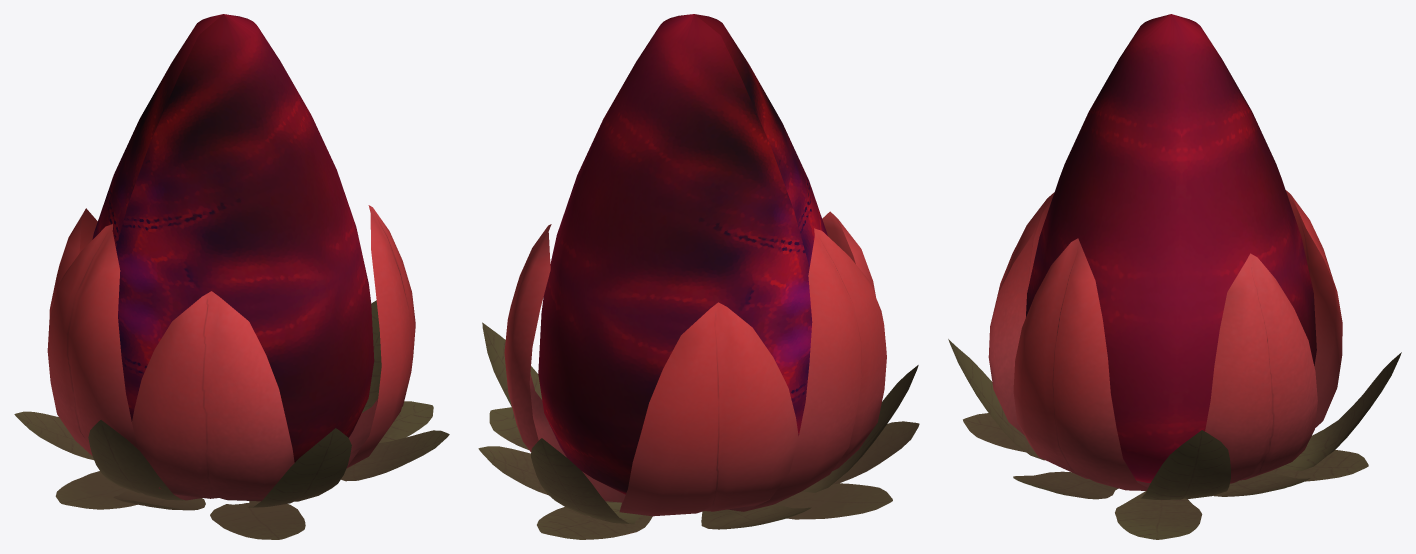
Rendered from egg.fbx.
3 renders of one model, left to right at view 1: azimuth 30°, elevation 25°; view 2: azimuth 150°, elevation 25°; view 3: azimuth 270°, elevation 25°, orthographic. The views are drawn at different scales.
Parts seen in each view (by area): view 1: PlantEgg4; view 2: PlantEgg4; view 3: PlantEgg4.
Part boxes in pixels (x1=…): PlantEgg4: x1=14, y1=14, x2=449, y2=539; PlantEgg4: x1=478, y1=14, x2=919, y2=539; PlantEgg4: x1=948, y1=14, x2=1401, y2=539.
Bounding box in the file's own units: 297 × 341 × 313.
